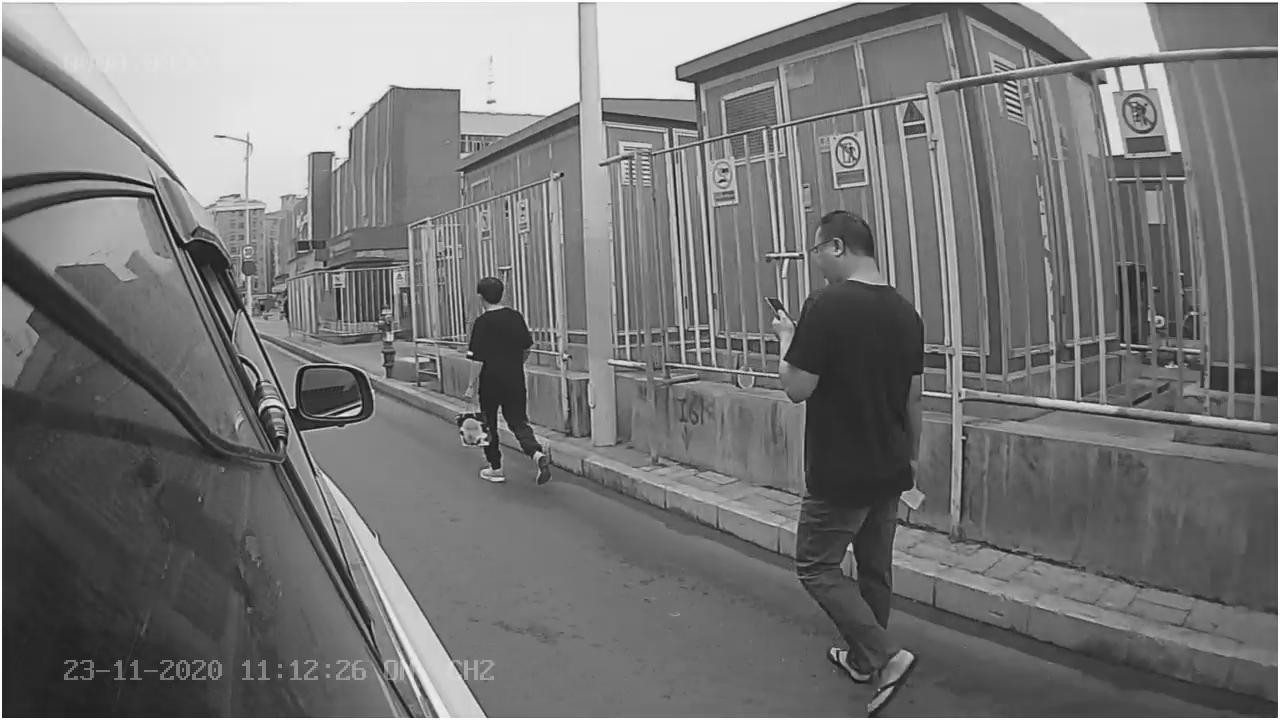person: (768, 215, 932, 701), (463, 265, 556, 504)
